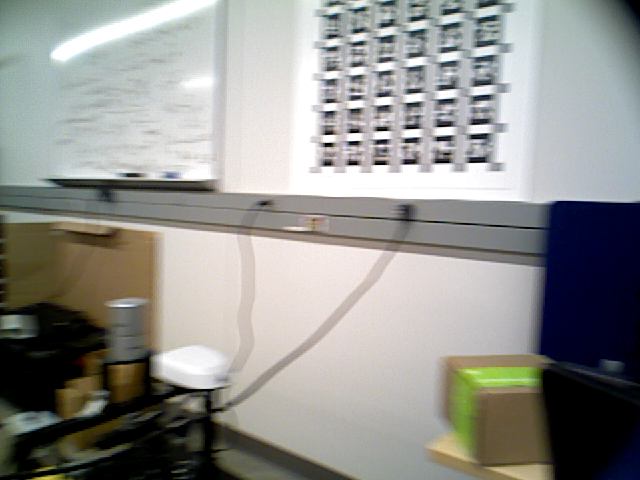painting4: (301, 1, 525, 202)
